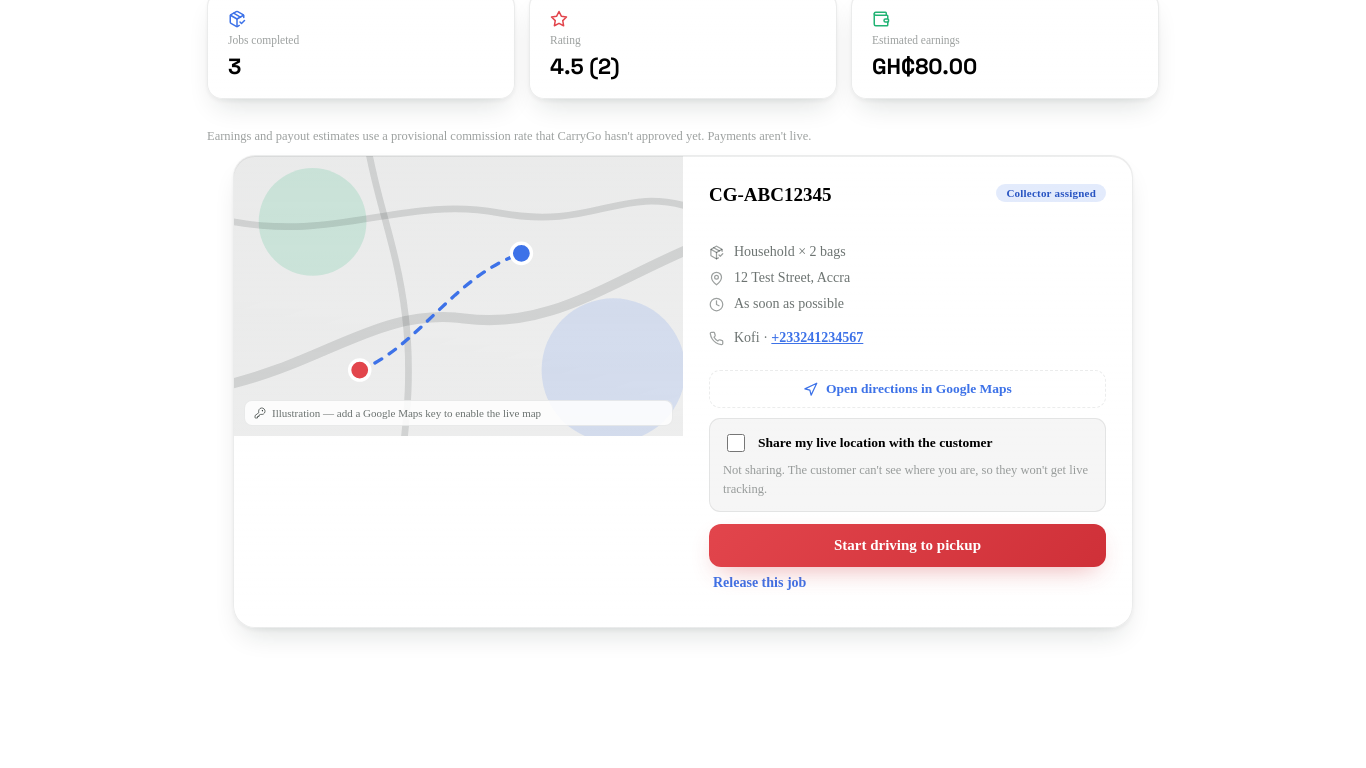
Test case: CollectorDashboard — live location consent & sharing › asks for consent the first time and does NOT advance until the collector chooses
This screenshot has width=1366, height=768.
Later steps or results of the test are not shown.
(page scrolled)
Click the button "Start driving to pickup": (908, 545) [709,524,1106,567]
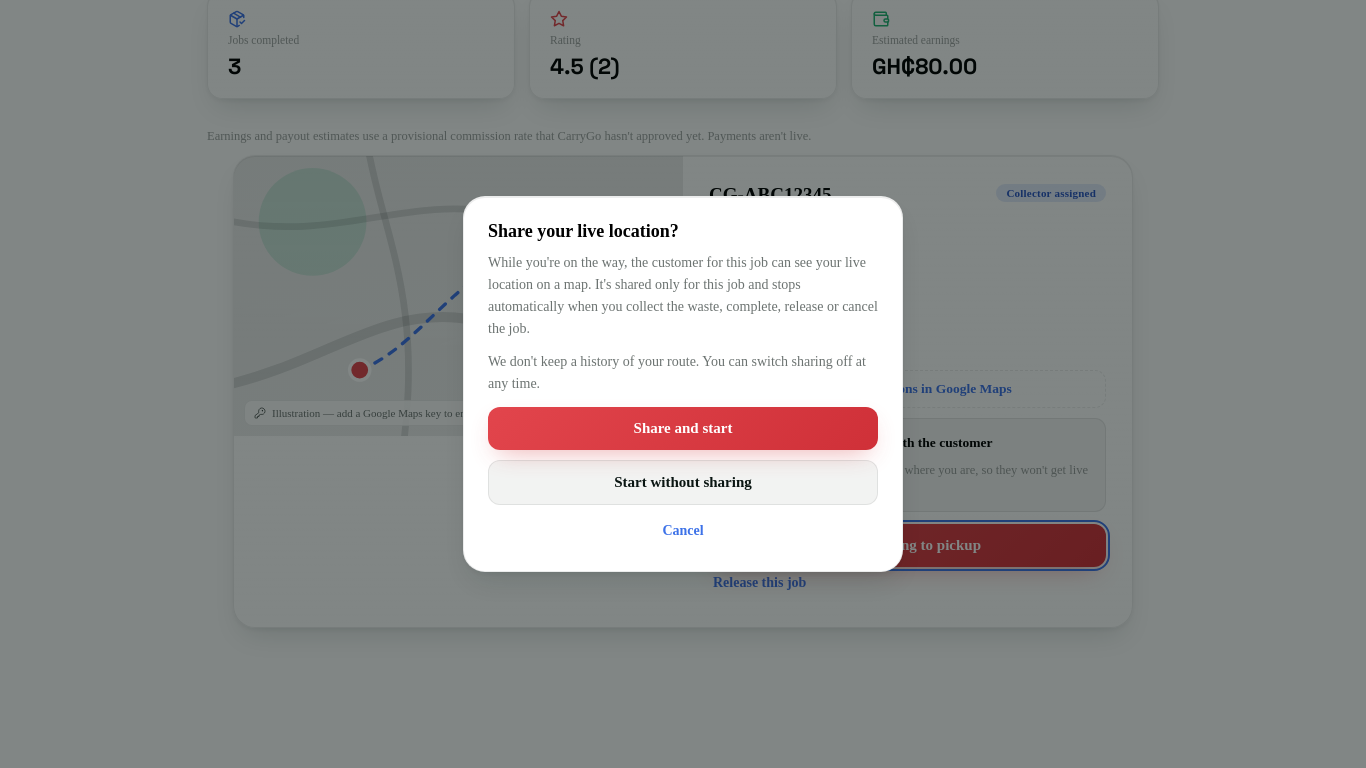
expect the dialog "Share your live location" shows "don't keep a history of your route": met, box [488,354,866,391]
